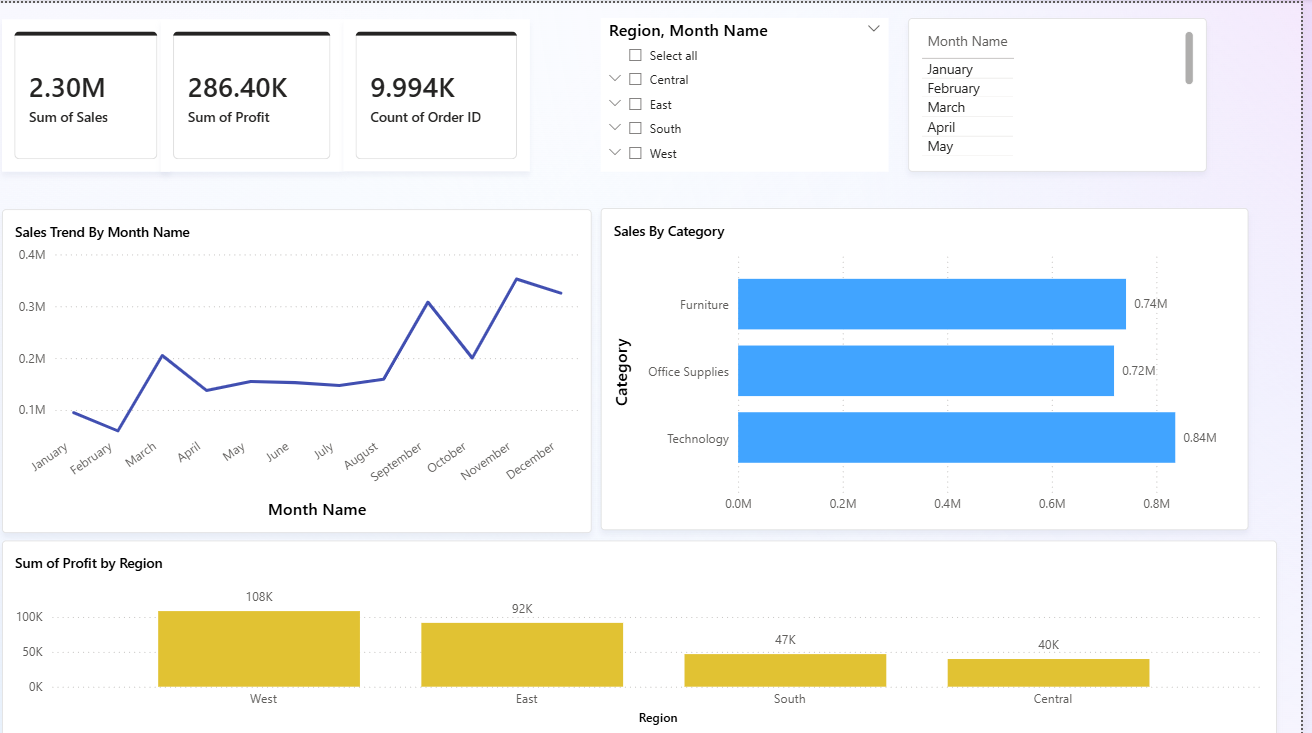

The page's visual inventory and layout, read from the dashboard file:
{"tool":"powerbi","page":{"name":"Page 1","canvas":[1280,720],"ordinal":0},"visuals":[{"type":"cardVisual","fields":{"Data":["Sum(Orders.Sales)"]},"box":[9.6,16.5,164.7,149.6],"z":0},{"type":"cardVisual","fields":{"Data":["Sum(Orders.Profit)"]},"box":[164.7,16.5,178.4,149.6],"z":1000},{"type":"cardVisual","fields":{"Data":["CountNonNull(Orders.Order ID)"]},"box":[343.6,15.9,182.2,149.2],"z":2000},{"type":"lineChart","title":"Sales Trend By Month Name","fields":{"Y":["Sum(Orders.Sales)"],"Category":["Orders.Month Name"]},"box":[9.8,201.8,577.2,316.7],"z":3000},{"type":"slicer","fields":{"Values":["Orders.Region","Orders.Month Name"]},"box":[595.5,14.7,281.3,150.4],"z":4000},{"type":"tableEx","fields":{"Values":["Orders.Month Name"]},"box":[896.3,14.7,292.3,150.4],"z":5000},{"type":"clusteredBarChart","title":"Sales By Category","fields":{"Category":["Orders.Category"],"Y":["Sum(Orders.Sales)"]},"box":[595.5,200.5,633.4,315.5],"z":6000},{"type":"clusteredColumnChart","fields":{"Category":["Orders.Region"],"Y":["Sum(Orders.Profit)"]},"box":[9.8,525.8,1247.3,194.4],"z":7000}]}

Visuals, with their boxes in screenshot pixels (x1, y1, x2, y2), scaled from the page's 1280x720 canvas onto the 1312x733 screenshot:
cardVisual - Sum(Orders.Sales): [x1=10, y1=17, x2=179, y2=169]
cardVisual - Sum(Orders.Profit): [x1=169, y1=17, x2=352, y2=169]
cardVisual - CountNonNull(Orders.Order ID): [x1=352, y1=16, x2=539, y2=168]
"Sales Trend By Month Name" lineChart: [x1=10, y1=205, x2=602, y2=528]
slicer - Orders.Region x Orders.Month Name: [x1=610, y1=15, x2=899, y2=168]
tableEx - Orders.Month Name: [x1=919, y1=15, x2=1218, y2=168]
"Sales By Category" clusteredBarChart: [x1=610, y1=204, x2=1260, y2=525]
clusteredColumnChart - Orders.Region x Sum(Orders.Profit): [x1=10, y1=535, x2=1289, y2=732]
